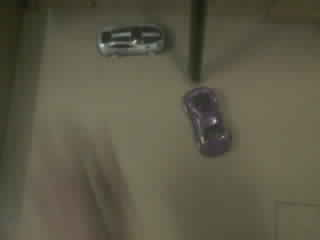Car: (183, 87, 230, 155), (98, 24, 165, 56)
